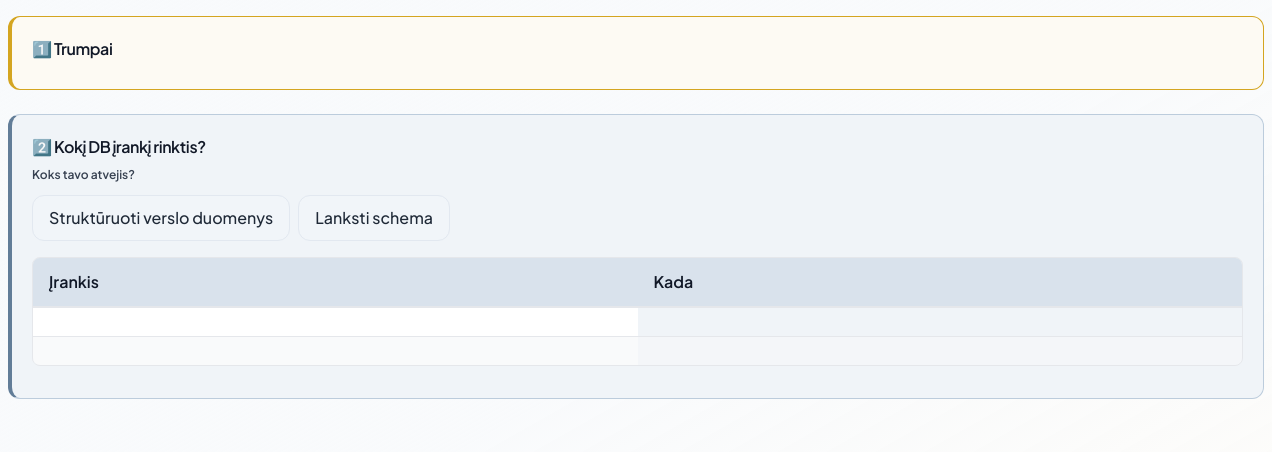
Test: ContentBlockSlide toolChoiceBar whenHint (chips) › updates whenHint when another chip is selected
The width and height of the screenshot is (1280, 452).
Click the button "Struktūruoti verslo duomenys": (161, 218) [32,195,290,241]
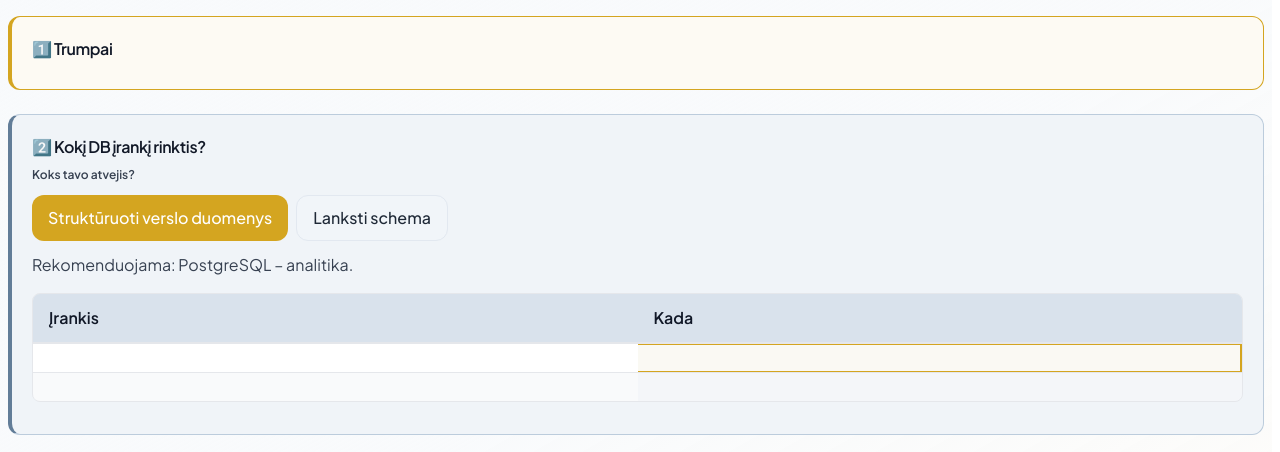
Click the button "Lanksti schema": (372, 218) [296,195,448,241]
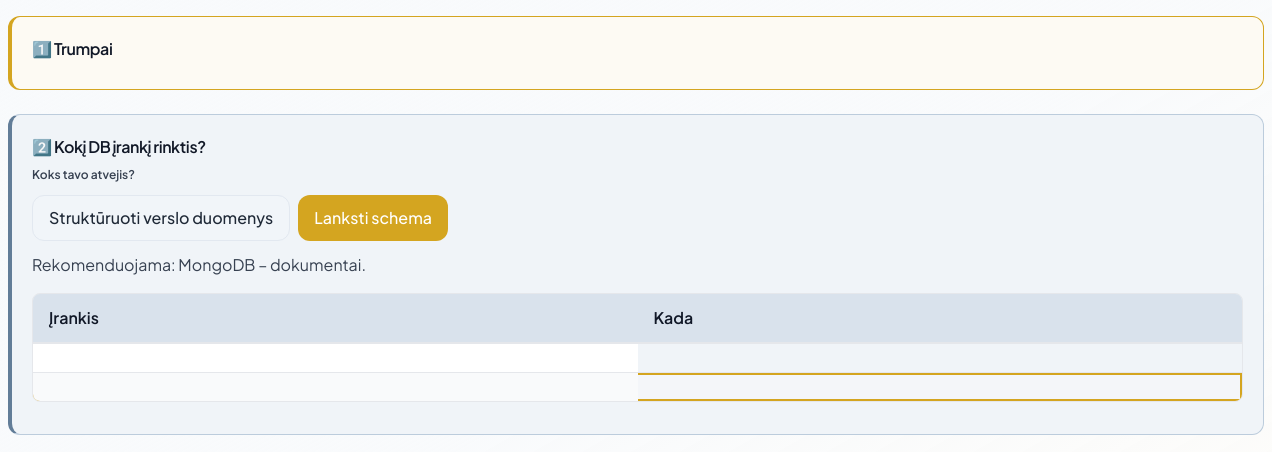
expect the text "Rekomenduojama: MongoDB – dokumentai." is shown: met, box [32,254,366,275]
expect the text "PostgreSQL" is gone: met
